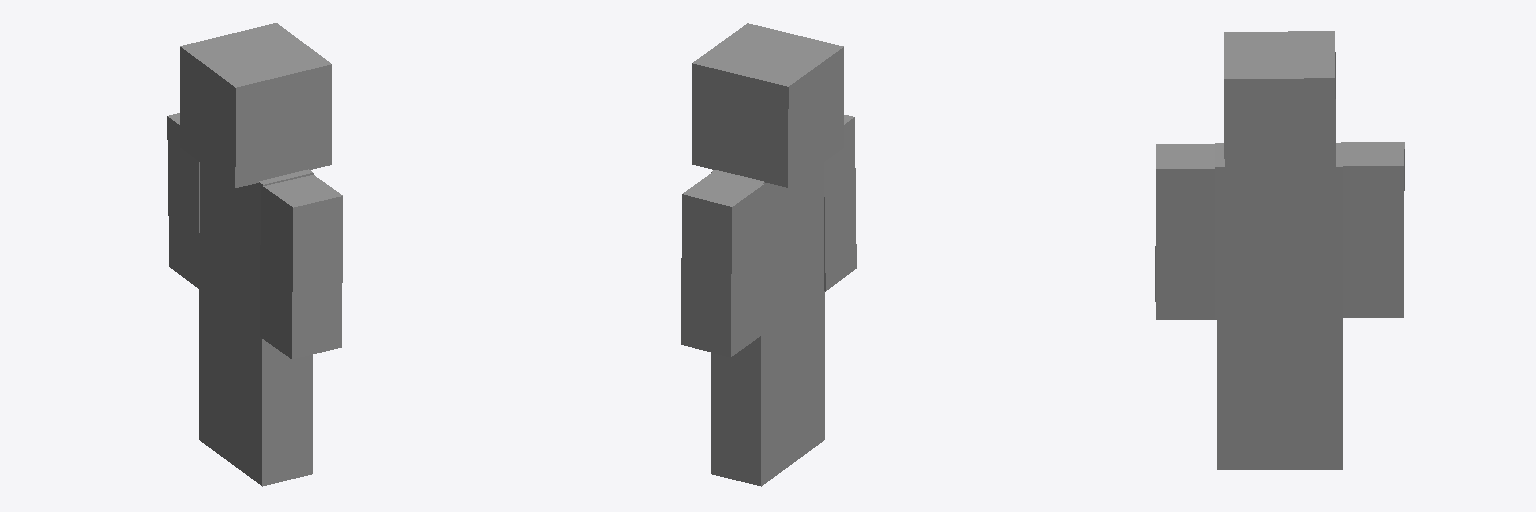
The model's file is steve.obj.
The picture shows the model from 3 angles: view 1: azimuth 30°, elevation 25°; view 2: azimuth 150°, elevation 25°; view 3: azimuth 270°, elevation 25°; orthographic projection.
Parts seen in each view (by area): view 1: Steve_Head, Steve_RArm, Steve_RLeg, Steve_Body, Steve_LLeg, Steve_LArm; view 2: Steve_Head, Steve_LArm, Steve_LLeg, Steve_Body, Steve_RLeg, Steve_RArm; view 3: Steve_Body, Steve_Head, Steve_LArm, Steve_RArm, Steve_LLeg, Steve_RLeg.
Boxes of the visible parts, <box> form: Steve_Head: <box>180,23,331,187</box>; Steve_RArm: <box>260,175,342,358</box>; Steve_RLeg: <box>231,313,312,486</box>; Steve_Body: <box>200,162,313,332</box>; Steve_LLeg: <box>199,289,230,462</box>; Steve_LArm: <box>167,113,199,288</box>; Steve_Head: <box>692,23,843,187</box>; Steve_LArm: <box>681,171,763,357</box>; Steve_LLeg: <box>711,313,792,486</box>; Steve_Body: <box>711,163,823,333</box>; Steve_RLeg: <box>793,290,824,462</box>; Steve_RArm: <box>824,115,856,291</box>; Steve_Body: <box>1215,143,1342,318</box>; Steve_Head: <box>1224,31,1335,179</box>; Steve_LArm: <box>1341,142,1404,317</box>; Steve_RArm: <box>1155,144,1216,319</box>; Steve_LLeg: <box>1280,318,1342,469</box>; Steve_RLeg: <box>1217,318,1279,469</box>.
Bounding box in the file's own units: 0.438 × 1.75 × 0.9801.